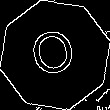O_S: (28, 25, 82, 85)
